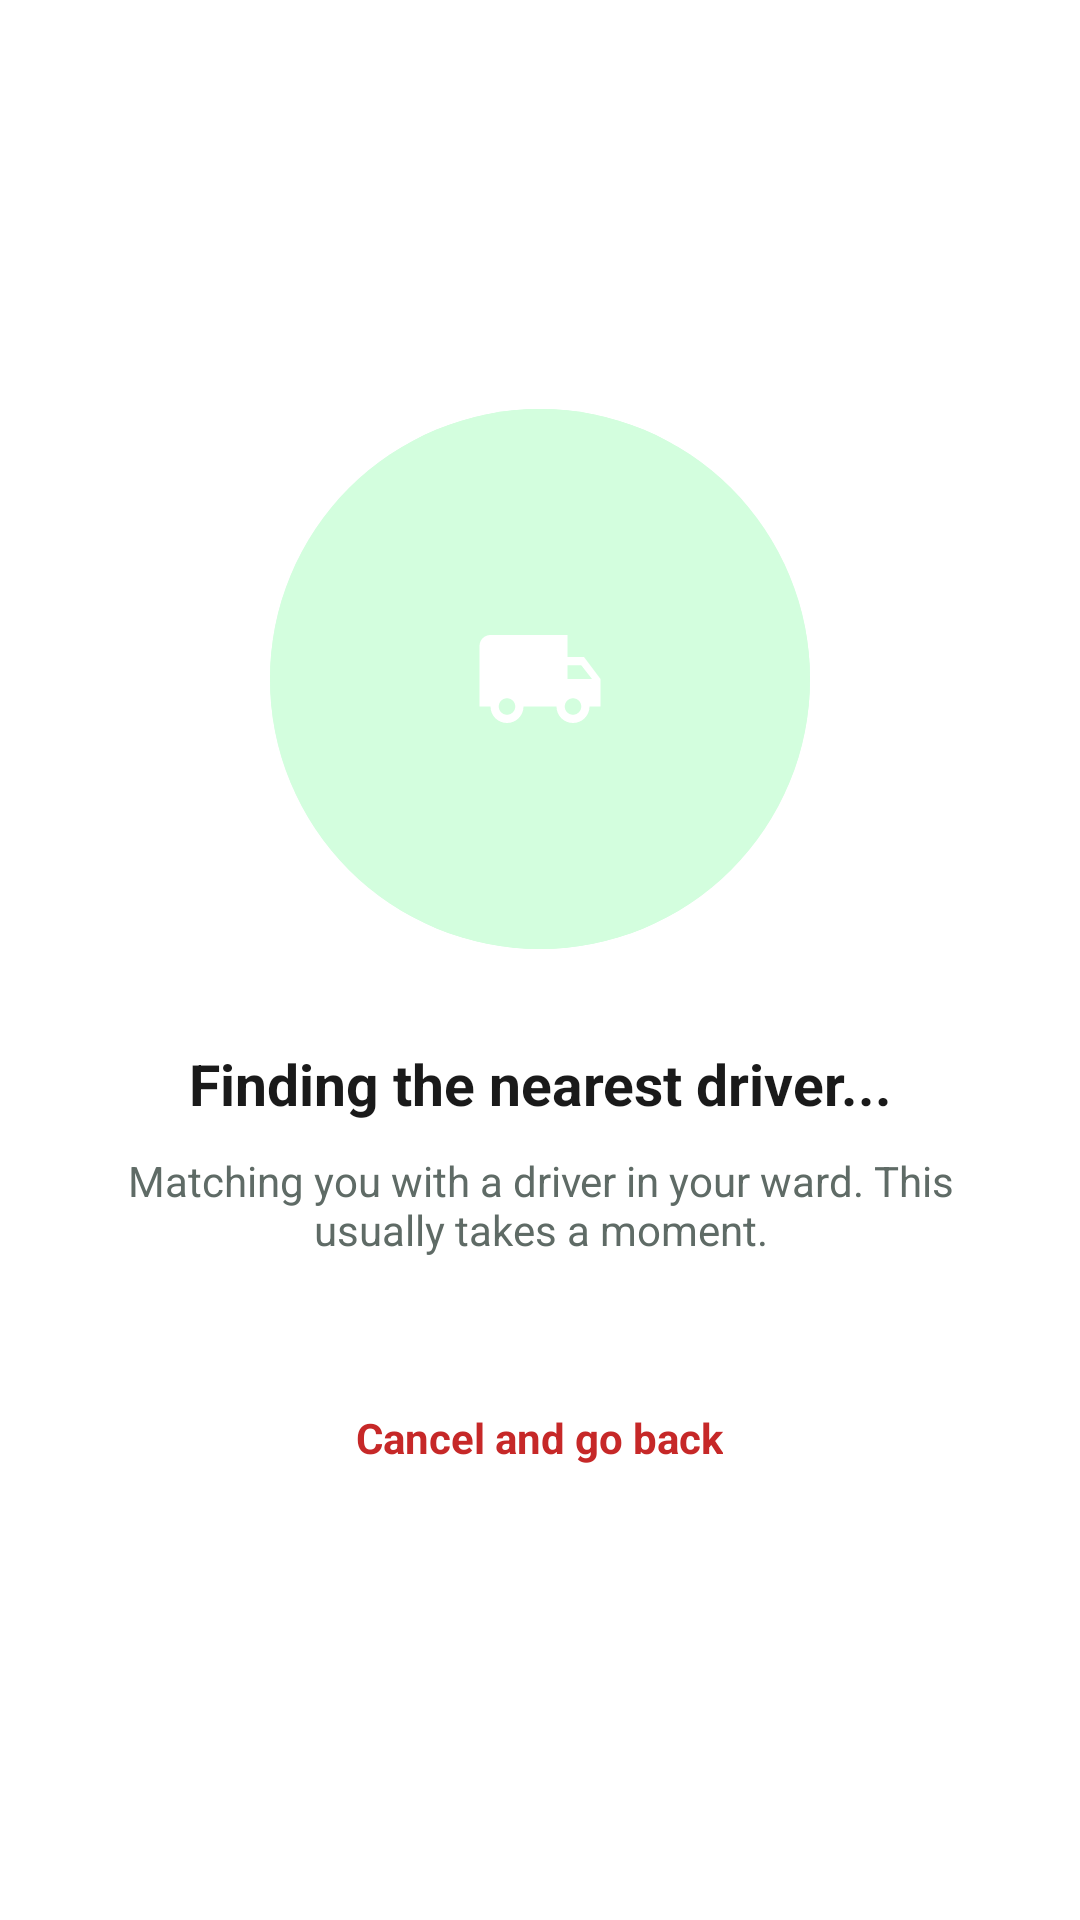

Named icons in this screenshot (1080w x 1920h) and their centers, (x=x, y=y):
truck: (x=540, y=679)
